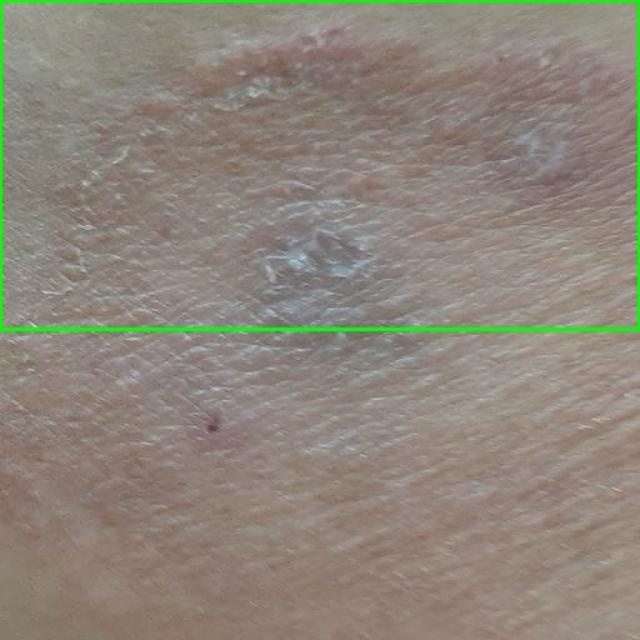Tinea Corporis: (0, 0, 639, 329)
